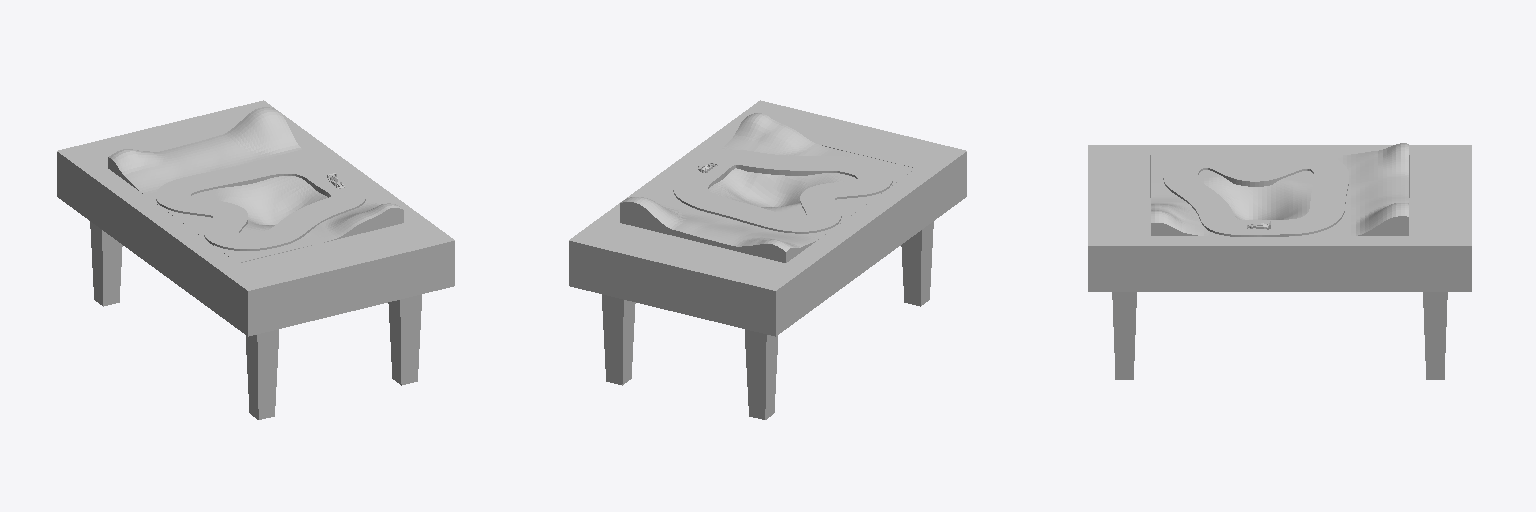
File: NewestTisch26.obj
3 renders of one model, left to right at view 1: azimuth 30°, elevation 25°; view 2: azimuth 150°, elevation 25°; view 3: azimuth 270°, elevation 25°, orthographic.
Visible parts, largest first — view 1: Tischplatte_wood_table_001, Landschaft_aerial_grass_rock, off, Bein1_wood_table_001, Bein4_wood_table_001.003, Bein3_wood_table_001.002; view 2: Tischplatte_wood_table_001, Landschaft_aerial_grass_rock, off, Bein2_wood_table_001.001, Bein3_wood_table_001.002, Bein4_wood_table_001.003; view 3: Tischplatte_wood_table_001, Landschaft_aerial_grass_rock, off, Bein1_wood_table_001, Bein2_wood_table_001.001.
Boxes of the visible parts, <box> form: Tischplatte_wood_table_001: <box>57,100,454,336</box>; Landschaft_aerial_grass_rock: <box>108,107,403,262</box>; off: <box>156,159,365,250</box>; Bein1_wood_table_001: <box>388,294,421,385</box>; Bein4_wood_table_001.003: <box>246,329,278,419</box>; Bein3_wood_table_001.002: <box>90,221,122,306</box>; Tischplatte_wood_table_001: <box>569,100,966,336</box>; Landschaft_aerial_grass_rock: <box>620,113,915,262</box>; off: <box>673,150,892,233</box>; Bein2_wood_table_001.001: <box>602,294,635,385</box>; Bein3_wood_table_001.002: <box>745,329,777,419</box>; Bein4_wood_table_001.003: <box>901,221,933,306</box>; Tischplatte_wood_table_001: <box>1088,145,1471,291</box>; Landschaft_aerial_grass_rock: <box>1151,143,1408,235</box>; off: <box>1163,153,1348,236</box>; Bein1_wood_table_001: <box>1112,292,1136,379</box>; Bein2_wood_table_001.001: <box>1423,292,1447,379</box>.
Size of the model in its own units: 5 by 3.91 by 8.